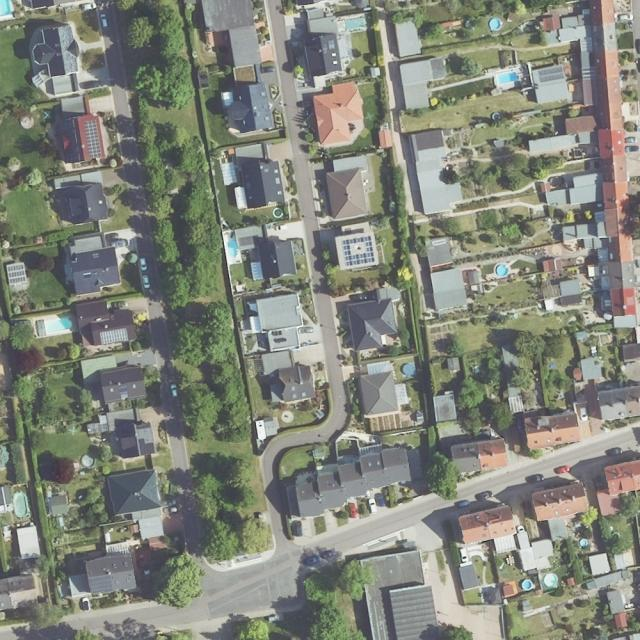PV: (342, 235, 374, 267), (61, 120, 80, 162), (82, 120, 102, 158), (99, 328, 128, 344), (537, 66, 564, 82), (7, 264, 26, 285), (90, 576, 113, 592), (272, 330, 282, 336)
ST: (118, 386, 129, 394), (83, 273, 92, 280)
